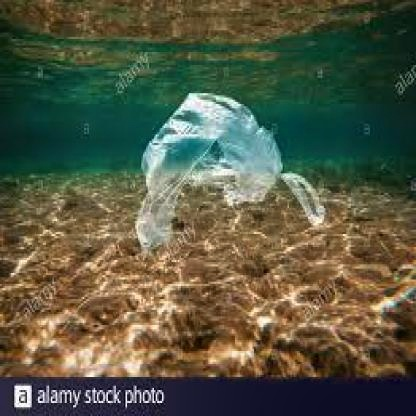pbag: (135, 91, 329, 262)
